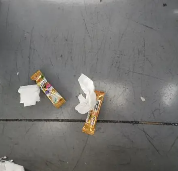garbage: (30, 71, 67, 113), (85, 85, 108, 138), (75, 70, 97, 115), (18, 81, 46, 107), (1, 152, 25, 168)
